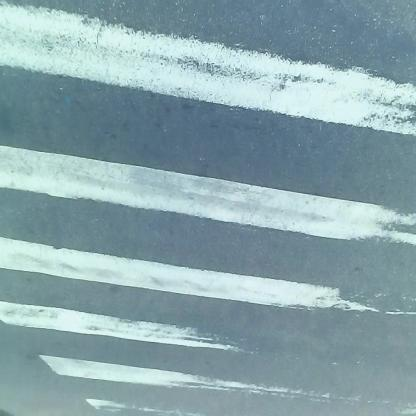crosswalk: (12, 33, 383, 394)
